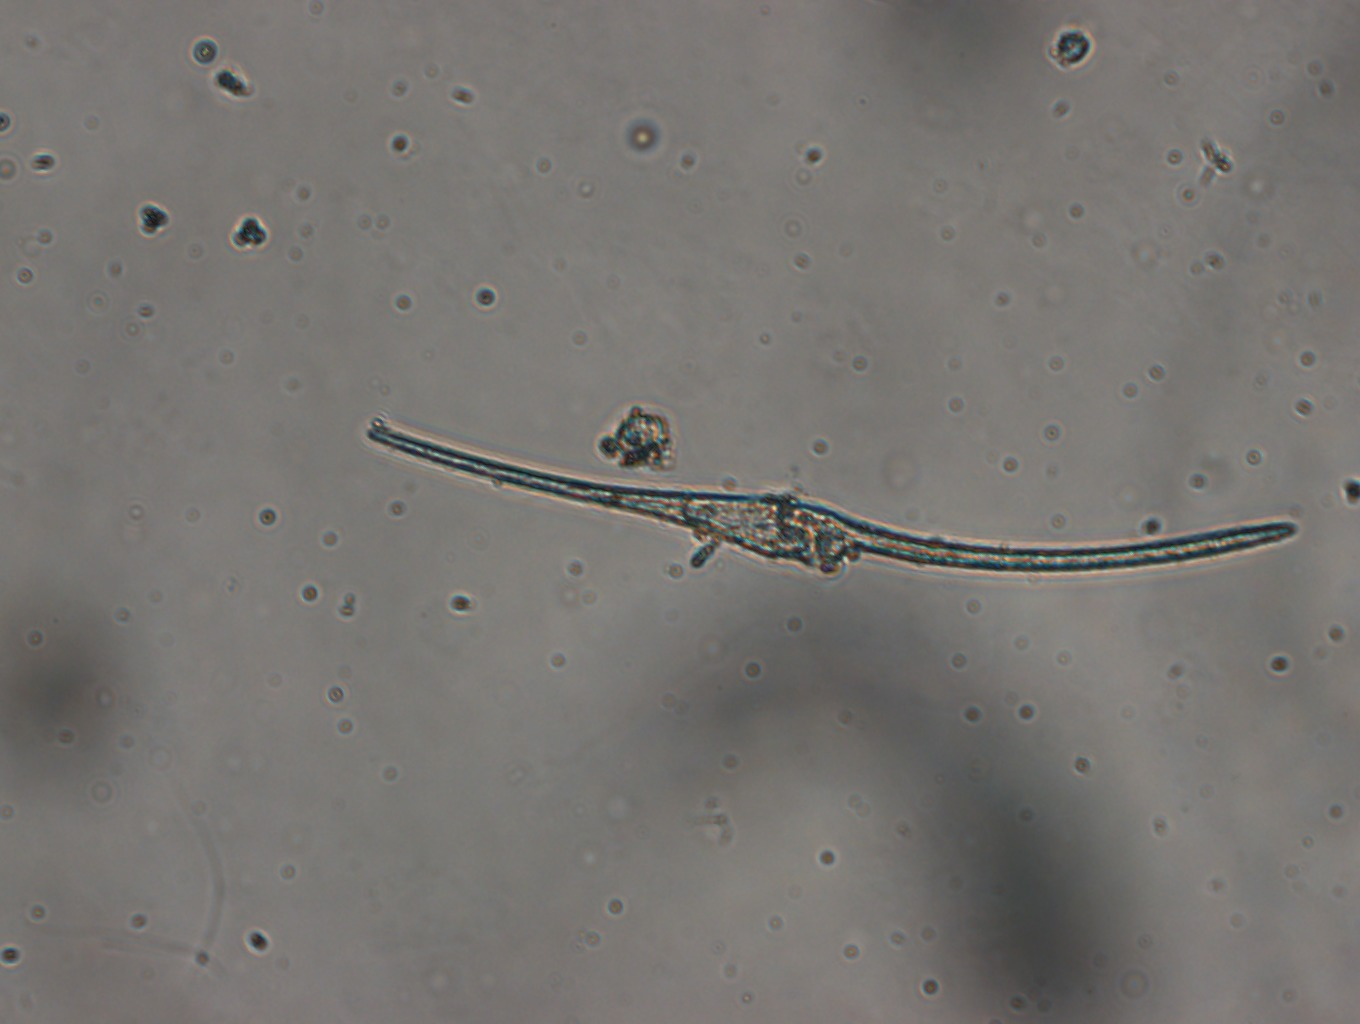ceratium fusus: (362, 415, 1303, 592)
